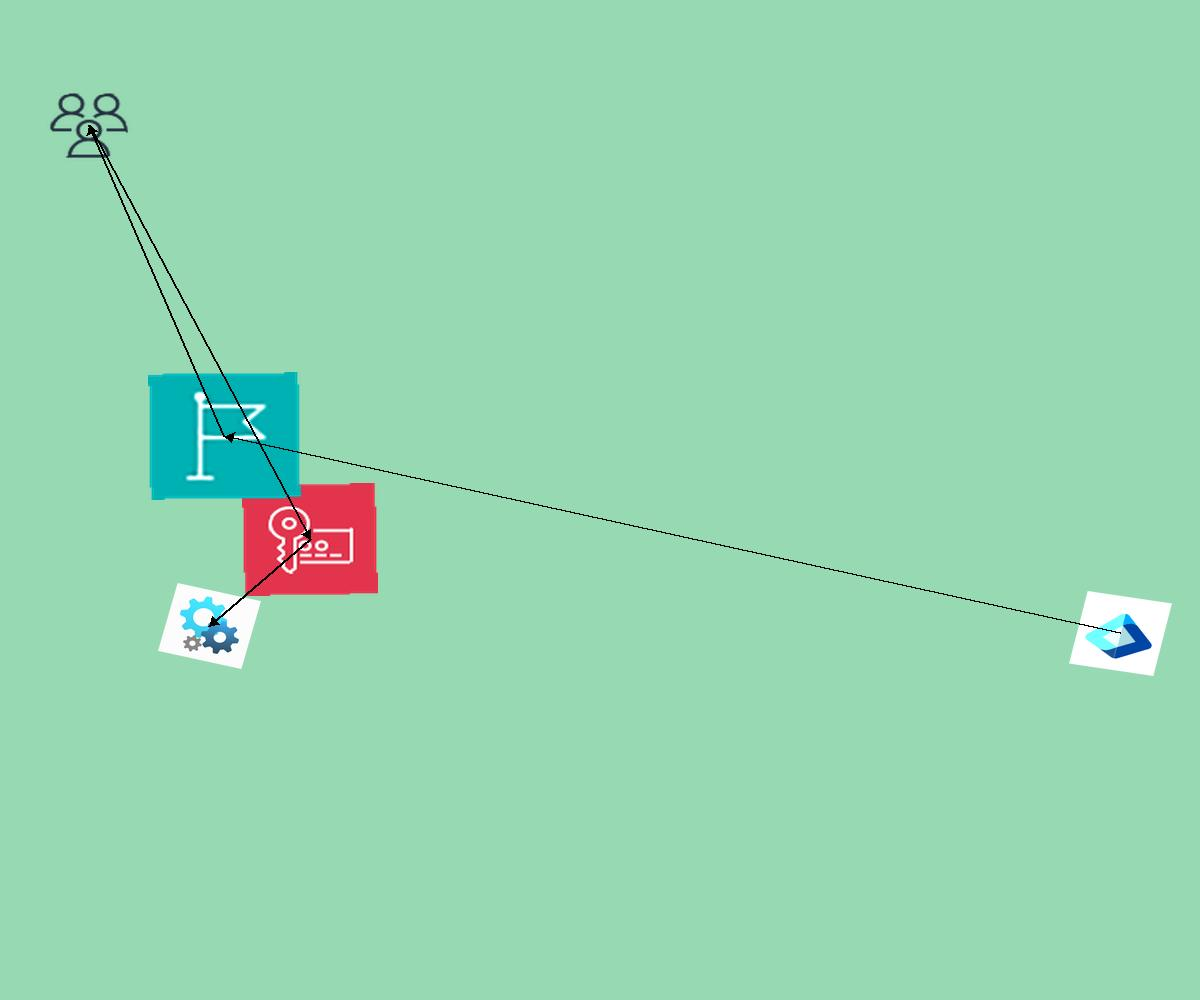AWS-Key-Management-Service: (242, 483, 378, 596)
AWS-Region: (148, 372, 301, 500)
AWS-Res_Users: (45, 89, 133, 162)
Azure_api: (158, 583, 261, 669)
Azure_microsoft_entra: (1069, 591, 1172, 676)
